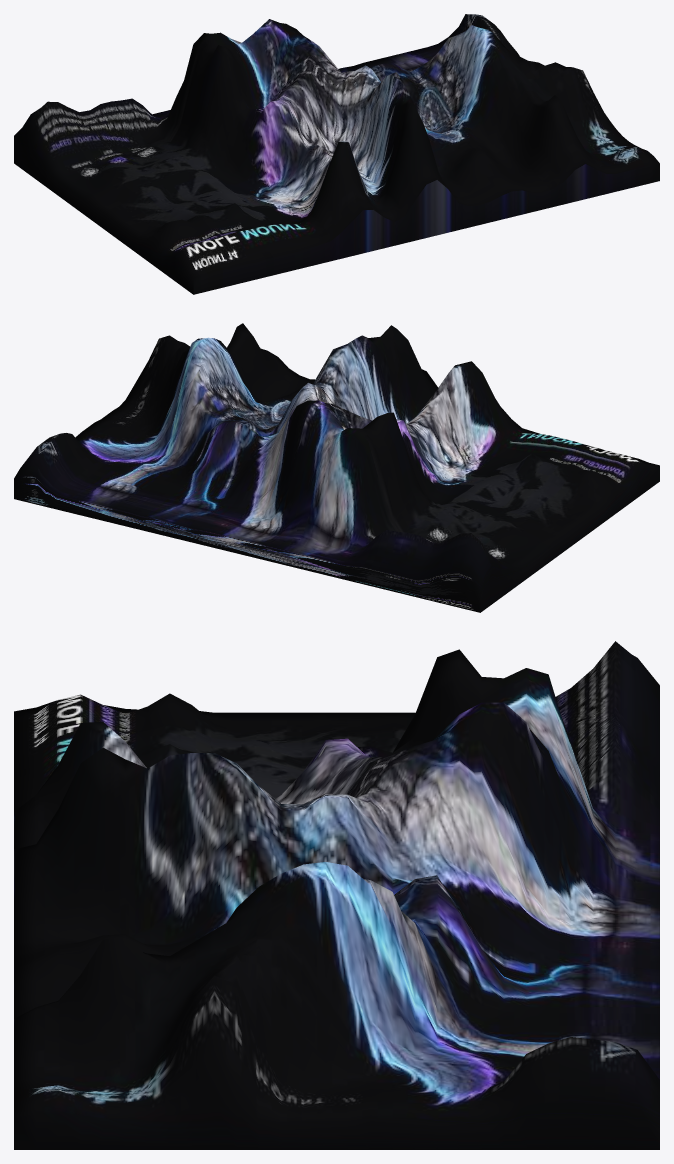
Rendered from MOUNT_14_Wolf_Mount.glb.
The picture shows the model from 3 angles, top to bottom: view 1: azimuth 30°, elevation 25°; view 2: azimuth 150°, elevation 25°; view 3: azimuth 270°, elevation 25°; orthographic projection. The views are drawn at different scales.
Visible parts, largest first — view 1: MOUNT_14_Wolf_Mount; view 2: MOUNT_14_Wolf_Mount; view 3: MOUNT_14_Wolf_Mount.
Boxes of the visible parts, x1,y1,x2,y2 form: MOUNT_14_Wolf_Mount: (14,14,659,294); MOUNT_14_Wolf_Mount: (14,323,659,612); MOUNT_14_Wolf_Mount: (14,641,659,1149).
Bounding box in the file's own units: 2 × 0.51 × 1.33.
Materials: 1 (1 with a texture image).
